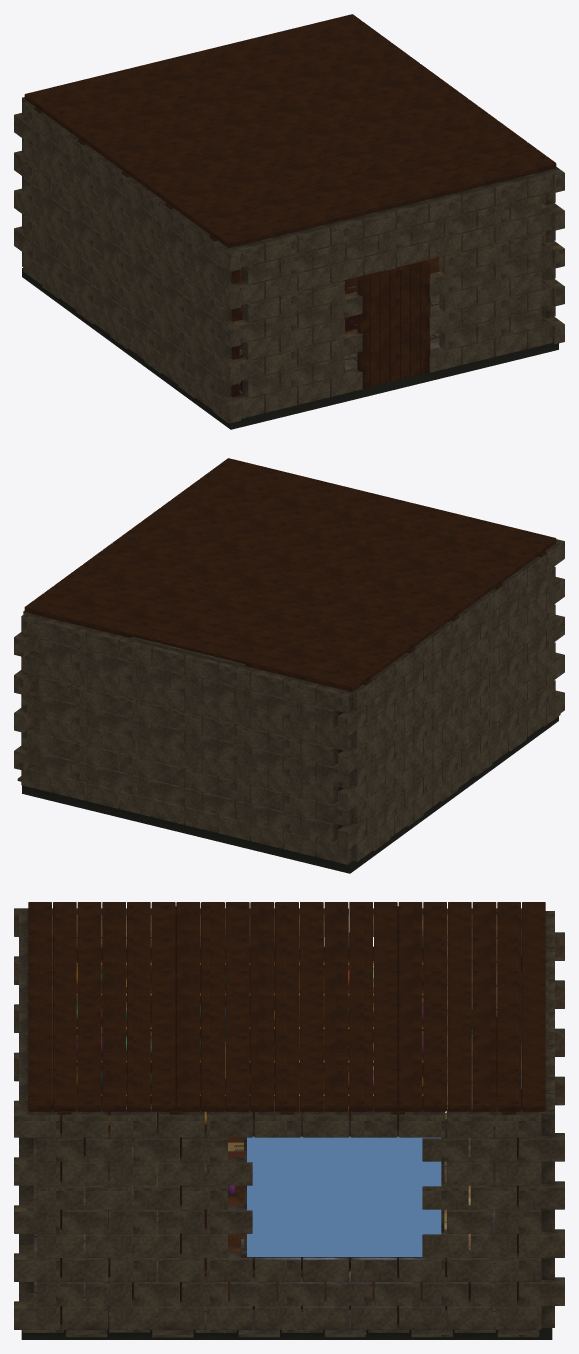
File: potions-room.glb
3 views of the same model, one above another, from view 1: azimuth 30°, elevation 25°; view 2: azimuth 150°, elevation 25°; view 3: azimuth 270°, elevation 25° (orthographic). The views are drawn at different scales.
Parts seen in each view (by area): view 1: Warm limestone, Aged golden oak, Iron and shadow; view 2: Warm limestone, Aged golden oak, Iron and shadow; view 3: Aged golden oak, Warm limestone, Blue evening glass, Iron and shadow.
Part boxes in pixels (x1,y1,x2,y2): Warm limestone: [14, 97, 564, 423]; Aged golden oak: [24, 14, 556, 397]; Iron and shadow: [22, 268, 558, 429]; Warm limestone: [14, 539, 564, 864]; Aged golden oak: [24, 458, 556, 839]; Iron and shadow: [22, 716, 558, 873]; Aged golden oak: [28, 902, 545, 1324]; Warm limestone: [14, 908, 564, 1337]; Blue evening glass: [247, 1136, 441, 1256]; Iron and shadow: [21, 1018, 552, 1339].
Size of the model in its own units: 8.1 by 4.2 by 8.93.
26 materials, 5 textured.
